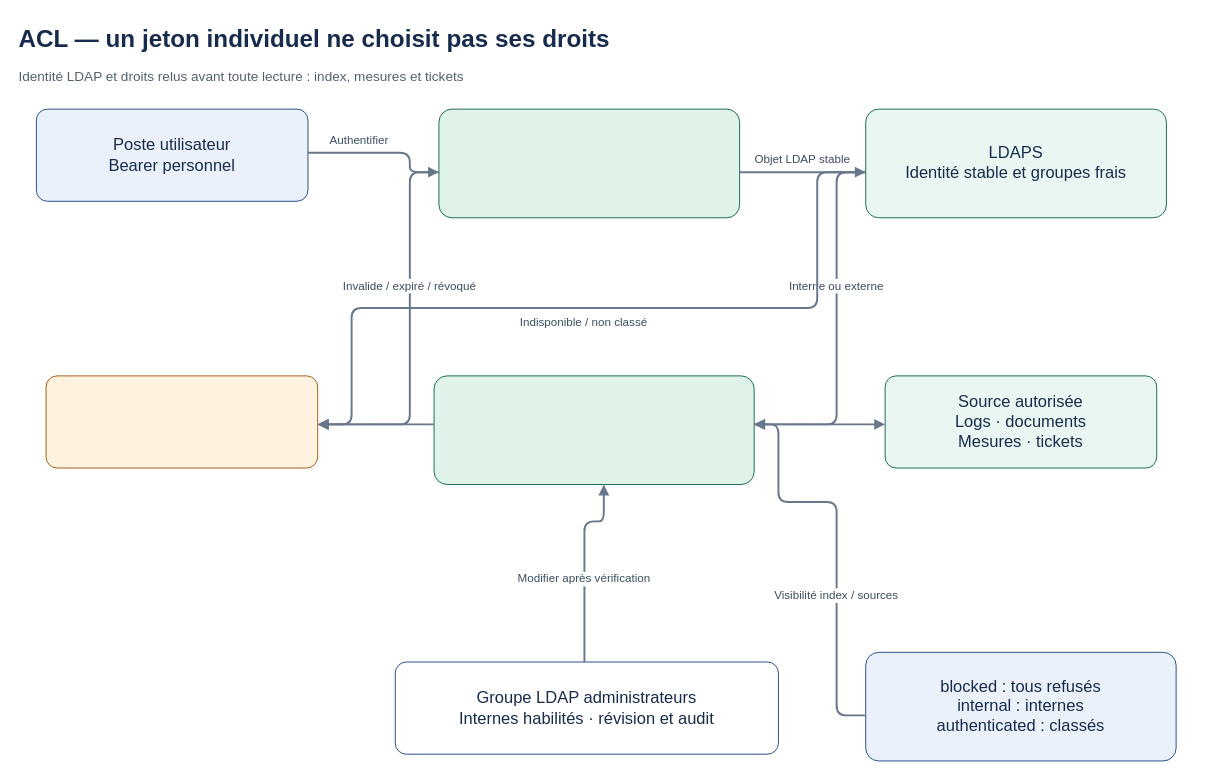
Image size: 1207x778. Some labels were removed from this diagram. The box of each missing label's shape, as (x1, y1, x2, y2) in pixels:
Politique versionnée Index + sources UC2 Absence de règle = refus: (433, 375, 754, 485)
Refus explicite Sans preuve interdite: (45, 375, 318, 468)
Registre des jetons Empreinte, expiration Révocation relue: (438, 108, 740, 218)
